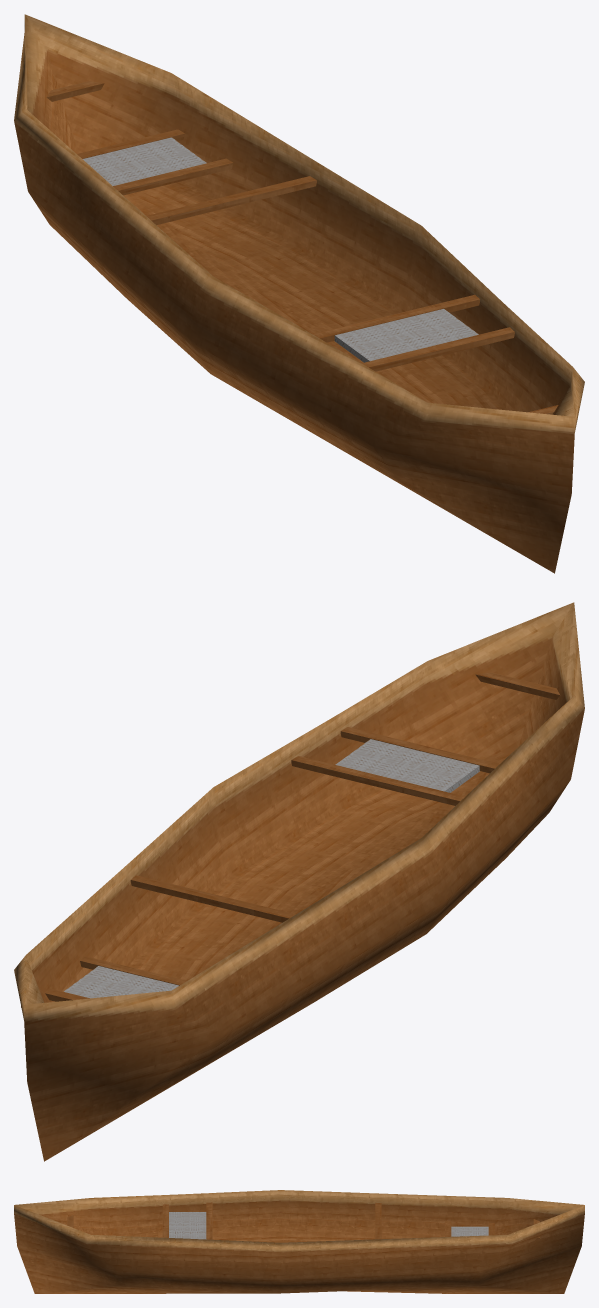
File: Canoe.fbx
3 renders of one model, top to bottom at view 1: azimuth 30°, elevation 25°; view 2: azimuth 150°, elevation 25°; view 3: azimuth 270°, elevation 25°, orthographic. The views are drawn at different scales.
Visible parts, largest first — view 1: polySurface10; view 2: polySurface10; view 3: polySurface10.
Part boxes in pixels (<box>): polySurface10: <box>14,14,584,573</box>; polySurface10: <box>14,602,584,1161</box>; polySurface10: <box>14,1190,584,1293</box>.
Bounding box in the file's own units: 232 × 149 × 868.
Materials: 1 (1 with a texture image).
